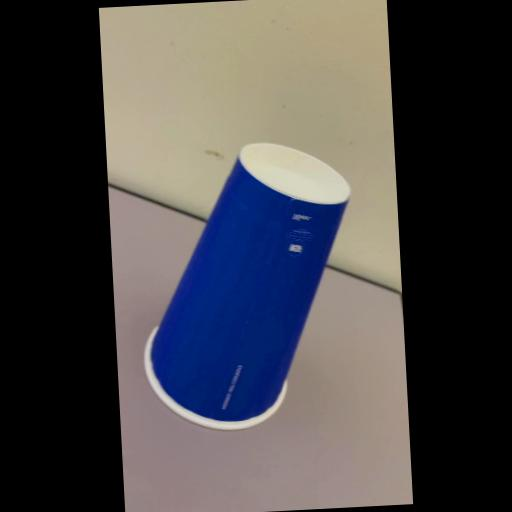lp_paper_cup: (134, 140, 362, 433)
